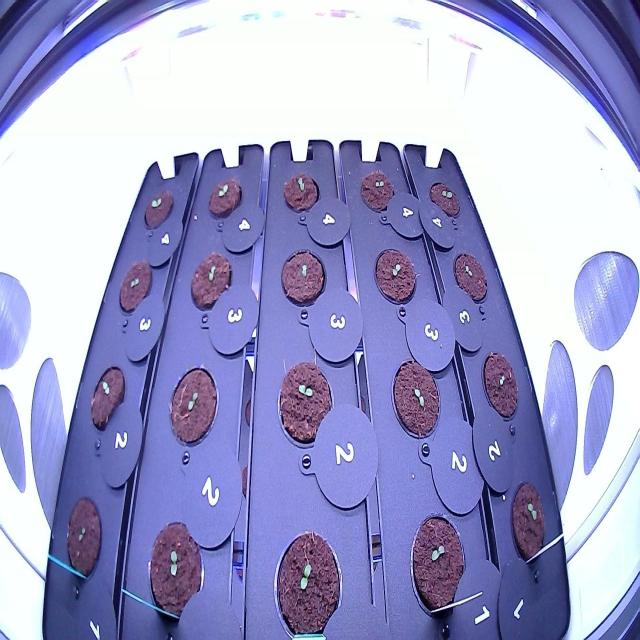germination: (266, 523, 351, 637), (404, 507, 471, 627), (144, 516, 204, 628), (272, 356, 338, 454), (164, 358, 220, 450), (389, 348, 443, 443), (507, 474, 549, 578), (62, 494, 104, 584), (276, 245, 330, 312), (86, 355, 128, 440), (480, 348, 523, 429), (188, 245, 234, 319), (370, 244, 420, 309), (449, 244, 490, 311), (115, 255, 153, 321), (278, 167, 324, 220), (355, 164, 399, 219), (202, 175, 245, 225), (425, 178, 465, 227), (140, 184, 175, 234)
